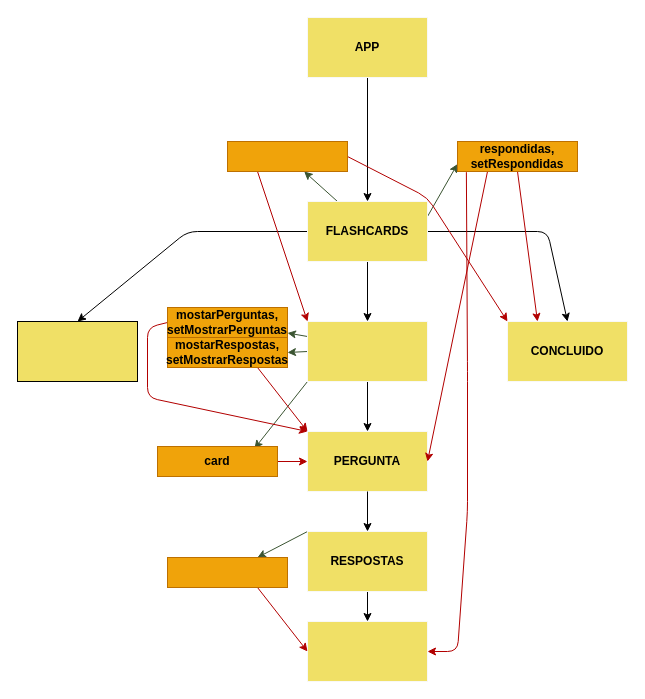
This 645x699 diagram has some shape labels left out. Here are the shapes that lost their labels. From the top down, the centre of each, then its label:
At [287,156]: "cards".
At [77,351]: "LOGO".
At [367,351]: "PERGUNTAS".
At [227,572]: "possRespostas".
At [367,651]: "RESPOSTA".
